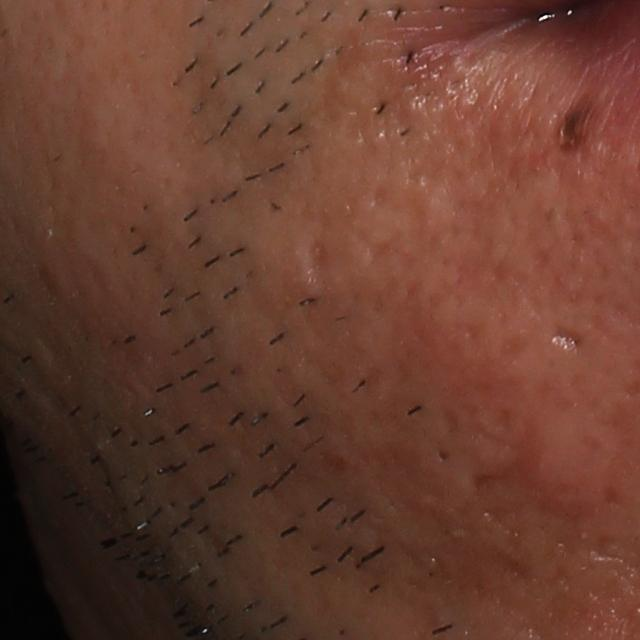atrophic_scar: (303, 27, 374, 139), (370, 185, 433, 242), (303, 237, 332, 288), (548, 326, 588, 354)
nevus: (556, 96, 608, 160)
